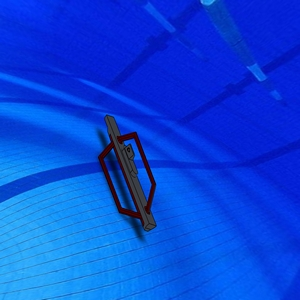submarine: (93, 109, 165, 237)
